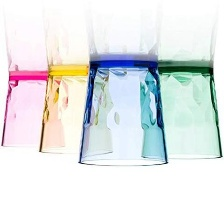glass: (76, 56, 172, 176), (138, 57, 224, 169), (33, 59, 117, 162), (0, 64, 67, 154)
